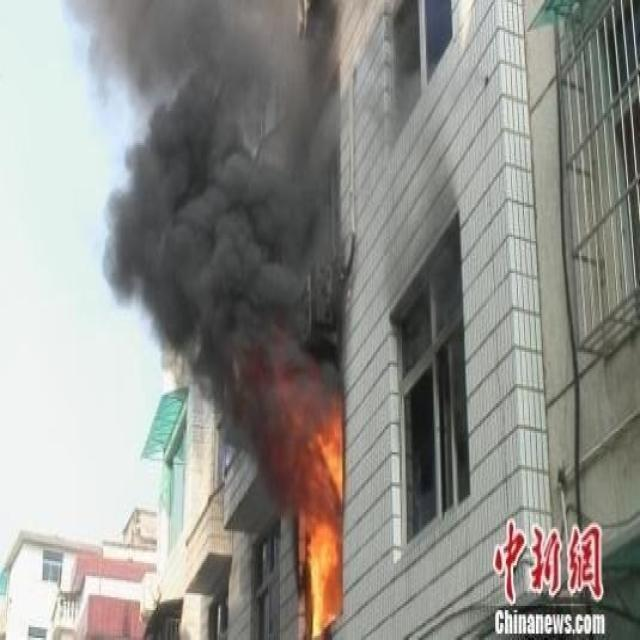Fire: (305, 431, 343, 640)
Smoke: (61, 2, 341, 525), (384, 8, 421, 141)
